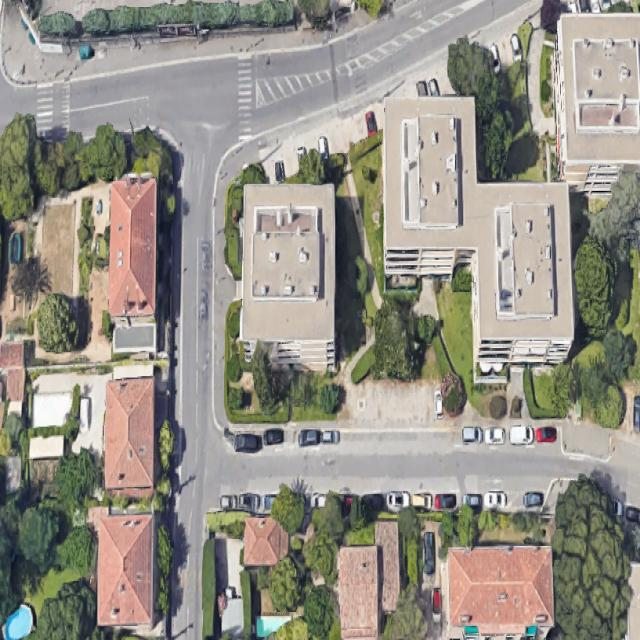immeuble: (468, 181, 574, 366), (239, 184, 337, 368), (382, 96, 480, 275), (552, 14, 639, 196), (562, 362, 567, 363)
maison: (446, 545, 554, 639), (338, 522, 400, 639), (243, 516, 289, 567)
